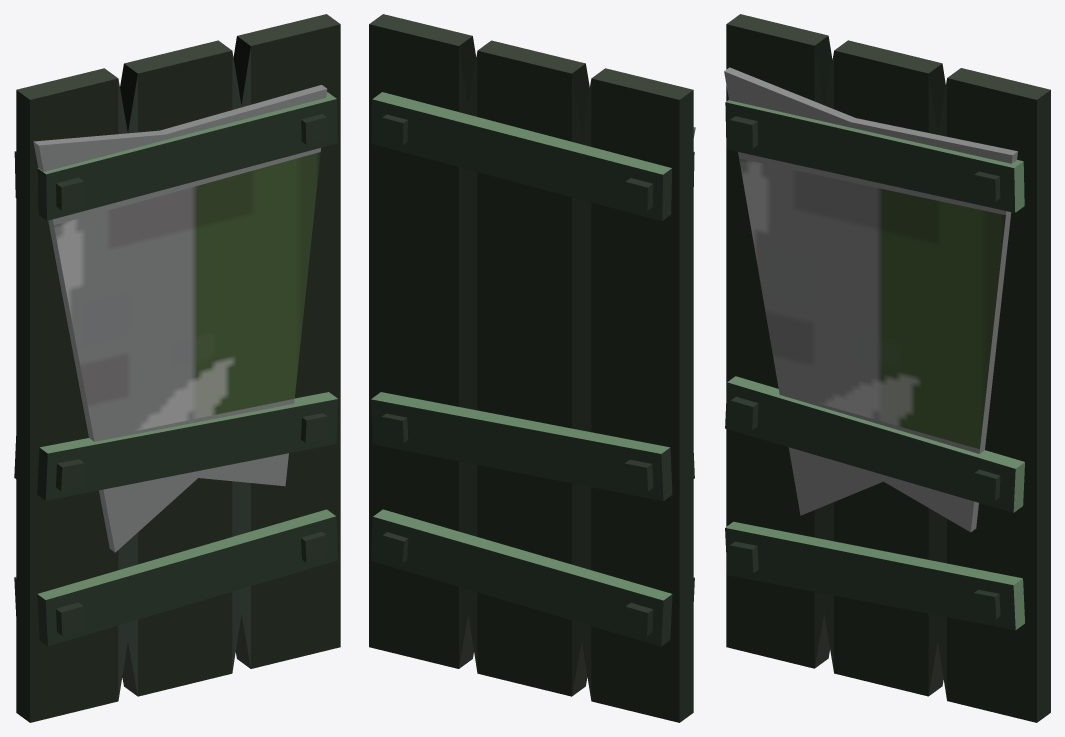
Rendered from SF_Wep_Goblin_Shield_09.glb.
3 renders of one model, left to right at view 1: azimuth 30°, elevation 25°; view 2: azimuth 150°, elevation 25°; view 3: azimuth 330°, elevation 25°, orthographic.
Parts seen in each view (by area): view 1: SF_Wep_Goblin_Shield_09; view 2: SF_Wep_Goblin_Shield_09; view 3: SF_Wep_Goblin_Shield_09.
Boxes of the visible parts, <box> form: SF_Wep_Goblin_Shield_09: <box>14,14,340,722</box>; SF_Wep_Goblin_Shield_09: <box>369,14,695,722</box>; SF_Wep_Goblin_Shield_09: <box>724,14,1050,722</box>.
Size of the model in its own units: 0.00831 by 0.0159 by 0.00196.
Materials: 1 (1 with a texture image).
